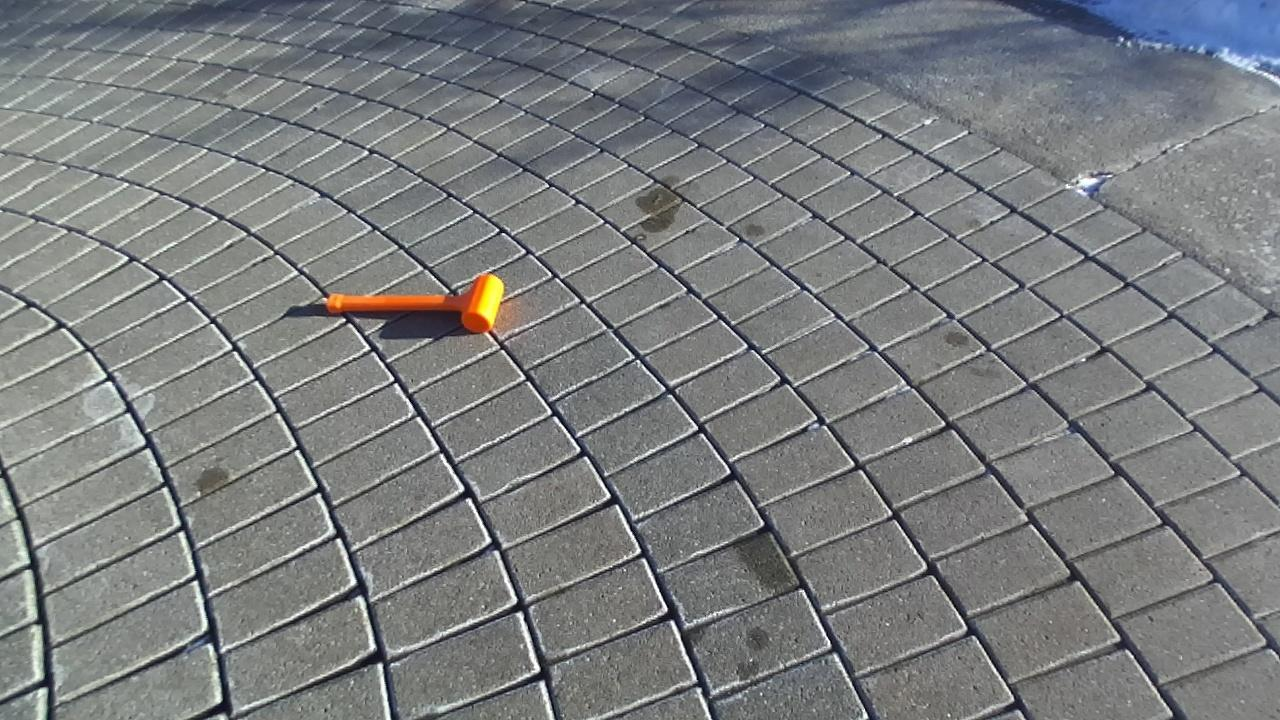mallet: (326, 274, 504, 332)
